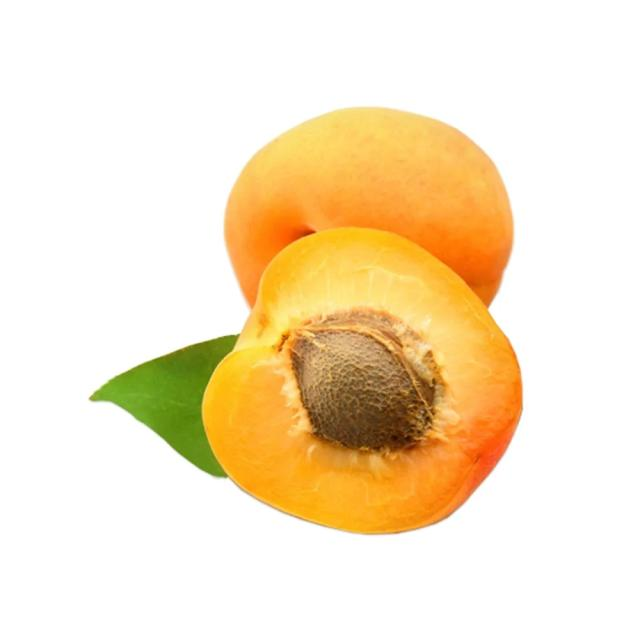Cekirdek: (283, 310, 444, 451)
Kayisi: (202, 228, 522, 534)
